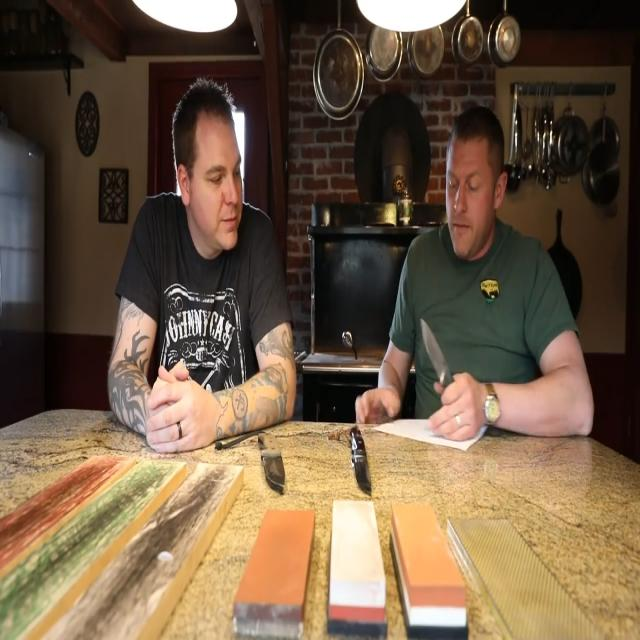knife: (420, 317, 454, 387), (348, 422, 376, 499), (259, 424, 288, 494)
